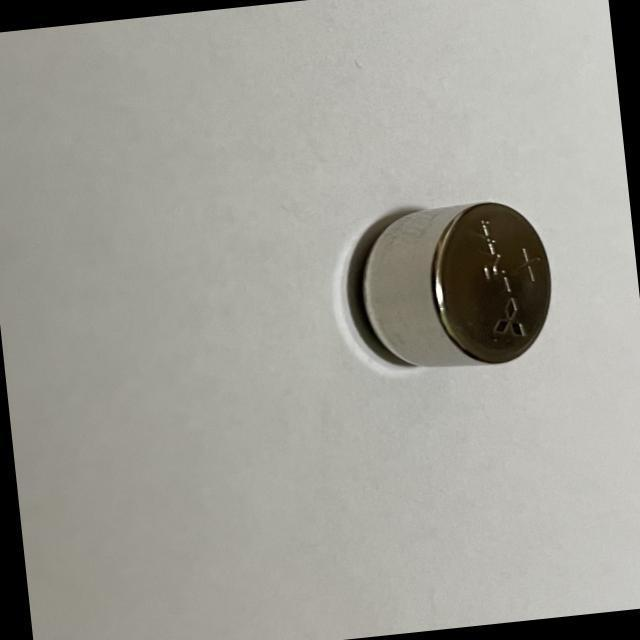COIN: (341, 194, 562, 379)
